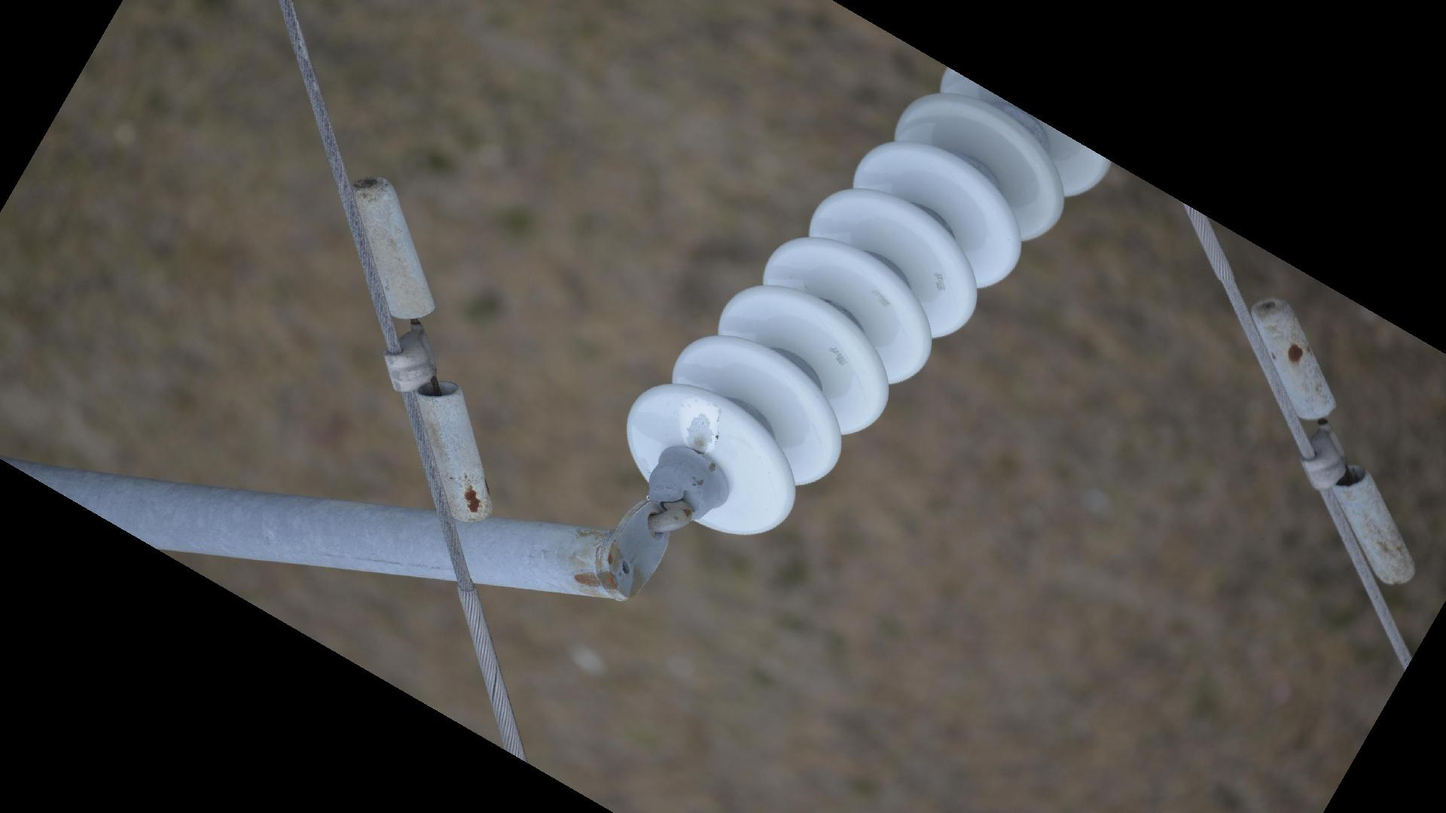insulator: (618, 62, 1118, 547)
insulator_flashover: (676, 396, 723, 456)
